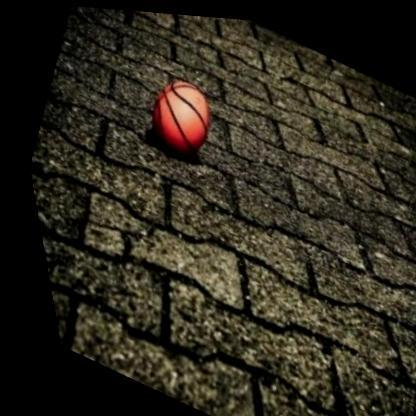basketball: (120, 58, 233, 171)
